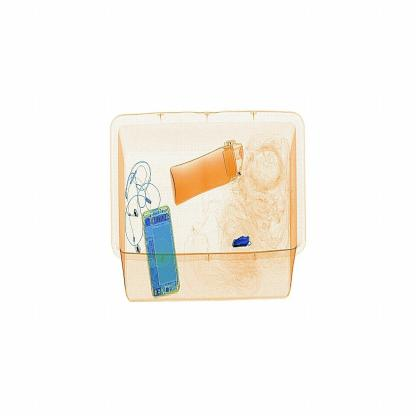knife: (232, 234, 250, 251)
